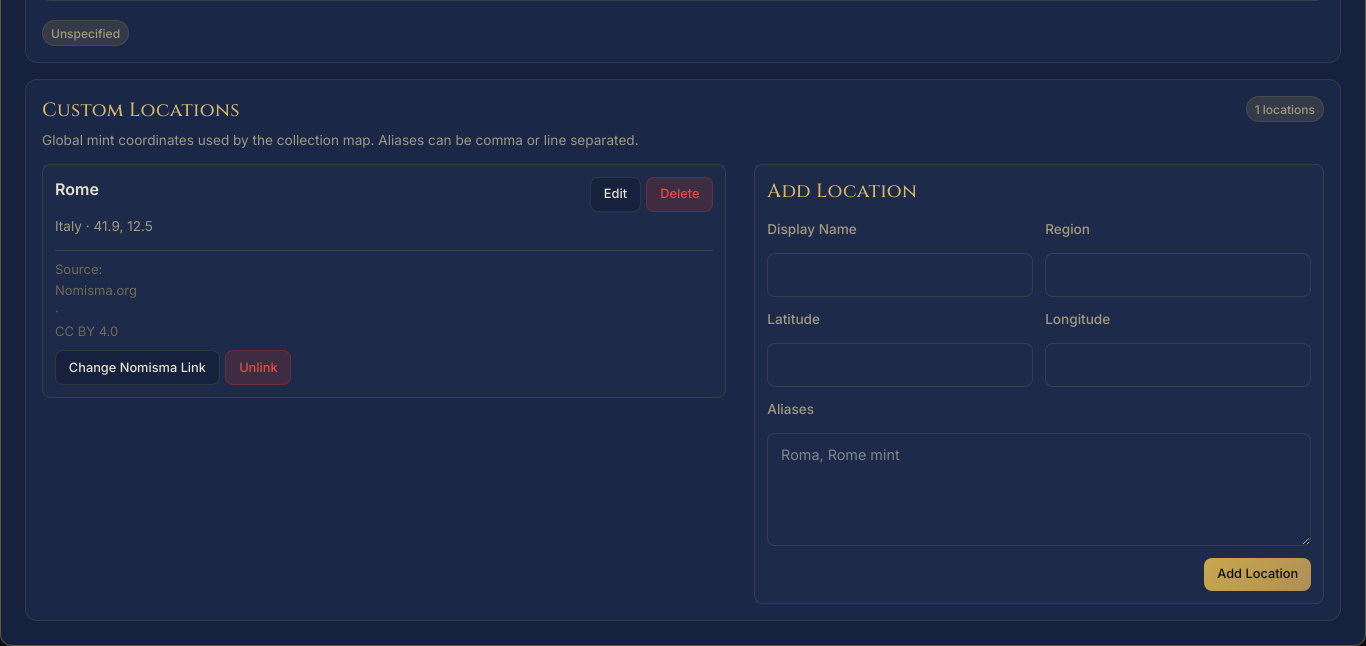
Test: AdminCoinPropertiesSection - Nomisma authority linking › unlinks after an explicit confirmation and removes the attribution
(page scrolled)
Click the button "Unlink". click: (258, 368)
box: [225,350,291,386]
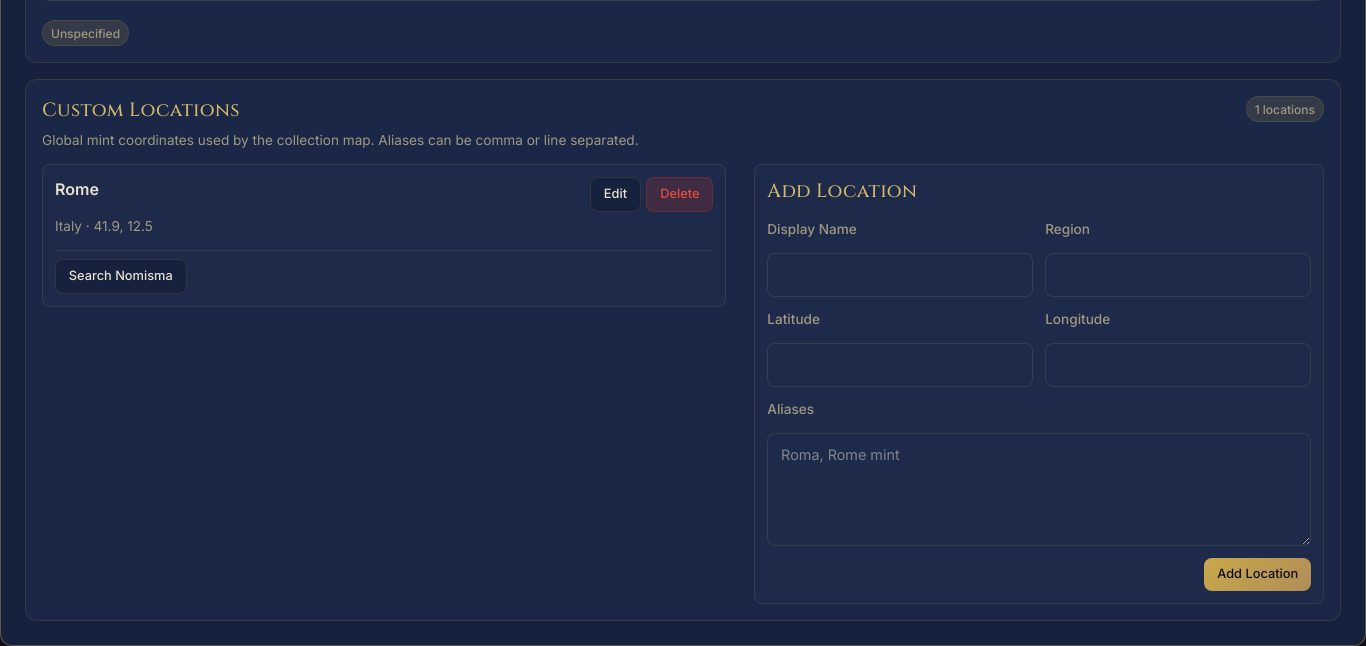
Now the text "Source: Nomisma.org · CC BY 4.0" is gone
